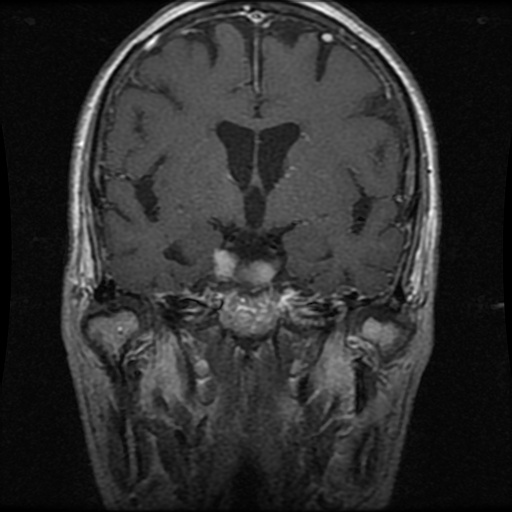pituitary: (211, 248, 276, 286)
